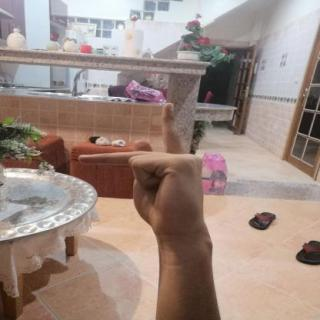DHAA: (66, 94, 219, 243)
